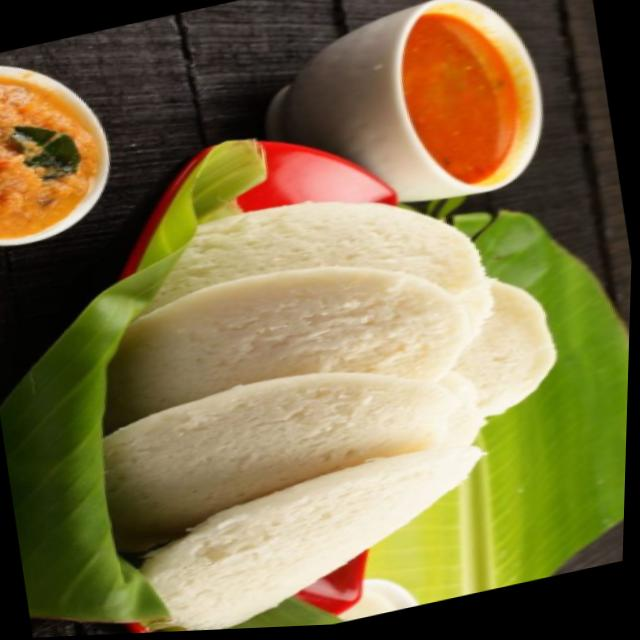IDLI: (103, 200, 563, 629)
SAMBAR: (401, 9, 519, 179)
